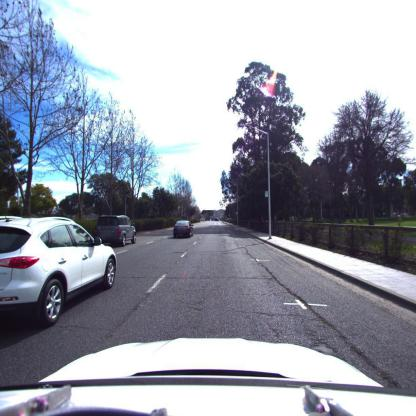car: (0, 216, 120, 329), (93, 215, 137, 247), (173, 220, 193, 237)
